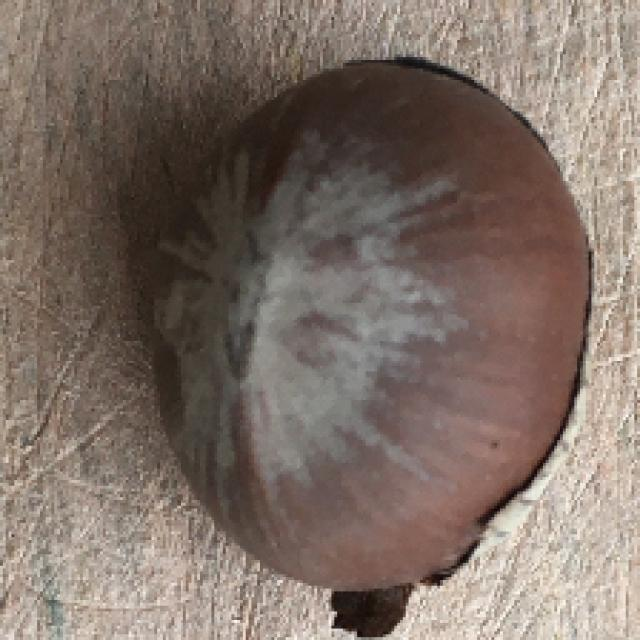DamagedHazelnut: (146, 66, 602, 592)
